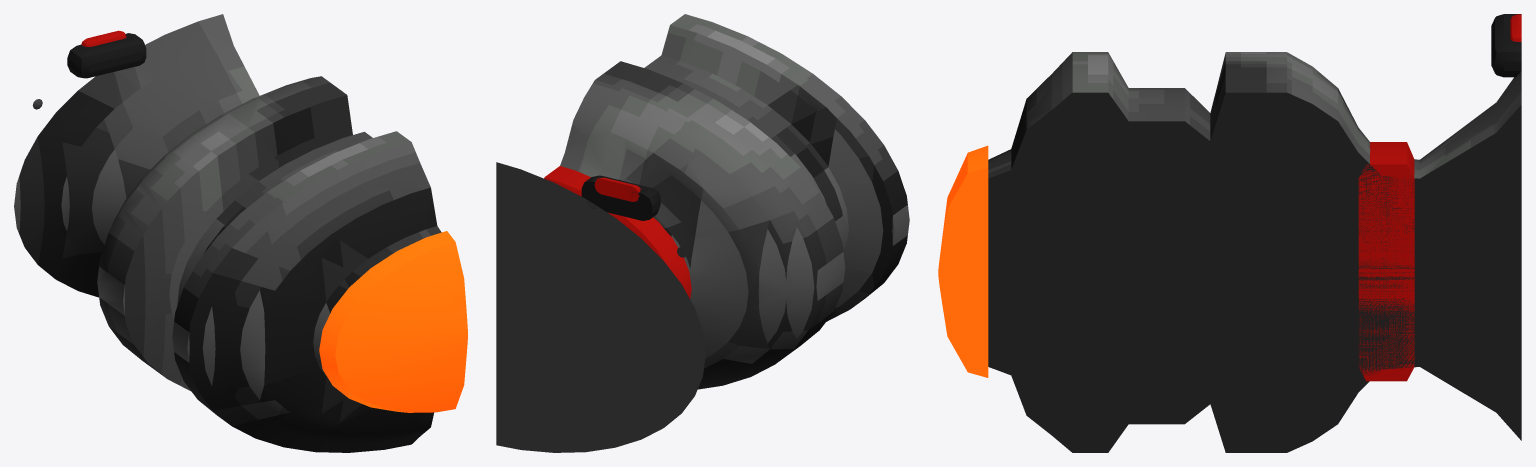
Rendered from grey_capsule_bl.glb.
3 renders of one model, left to right at view 1: azimuth 30°, elevation 25°; view 2: azimuth 150°, elevation 25°; view 3: azimuth 270°, elevation 25°, orthographic. The views are drawn at different scales.
Visible parts, largest first — view 1: grey_capsule_bl_hull, grey_capsule_bl_exhaust, grey_capsule_bl_slot_frame-1; view 2: grey_capsule_bl_hull, grey_capsule_bl_flange_lights, grey_capsule_bl_slot_frame-1, grey_capsule_bl_slot-1; view 3: grey_capsule_bl_hull, grey_capsule_bl_flange_lights, grey_capsule_bl_exhaust, grey_capsule_bl_slot_frame-1.
Boxes of the visible parts, x1,y1,x2,y2 form: grey_capsule_bl_hull: (14, 14, 441, 452); grey_capsule_bl_exhaust: (319, 231, 467, 412); grey_capsule_bl_slot_frame-1: (67, 33, 146, 78); grey_capsule_bl_hull: (496, 14, 909, 452); grey_capsule_bl_flange_lights: (544, 166, 691, 298); grey_capsule_bl_slot_frame-1: (581, 175, 660, 220); grey_capsule_bl_slot-1: (594, 177, 640, 201); grey_capsule_bl_hull: (988, 52, 1521, 452); grey_capsule_bl_flange_lights: (1358, 142, 1414, 381); grey_capsule_bl_exhaust: (938, 145, 988, 377); grey_capsule_bl_slot_frame-1: (1491, 14, 1521, 77).
Size of the model in its own units: 12.09 by 15.57 by 22.85.
